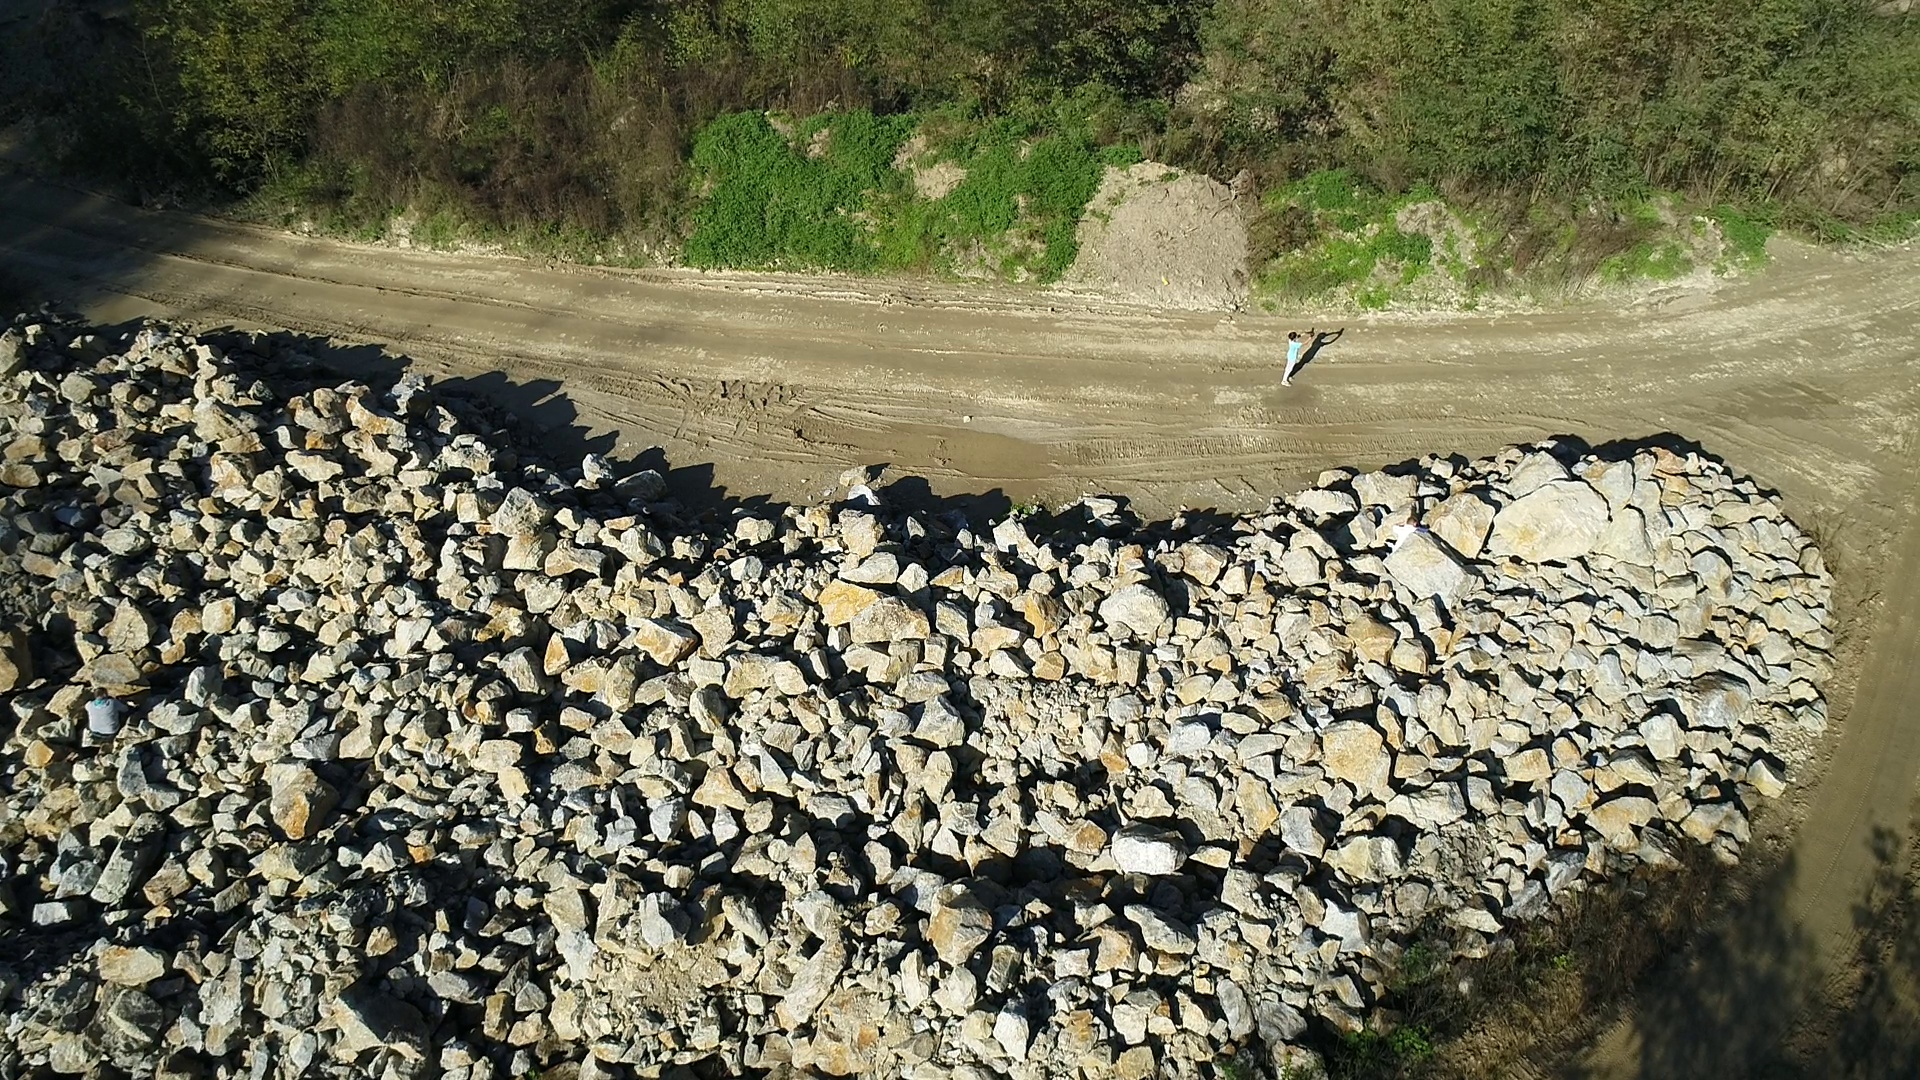not_defined: (1382, 515, 1430, 556)
person: (84, 687, 130, 742), (1280, 325, 1316, 387)
